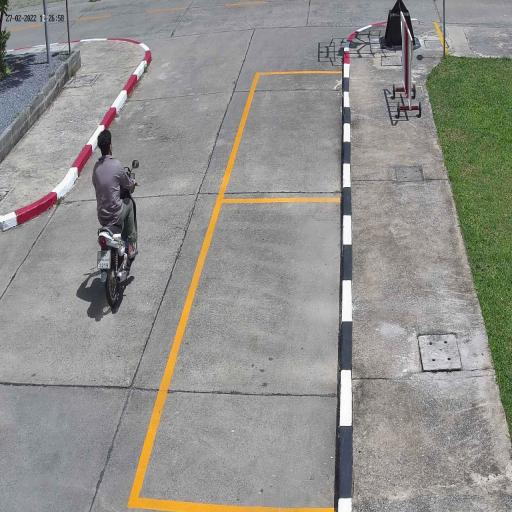motorcycle: (97, 195, 138, 311)
